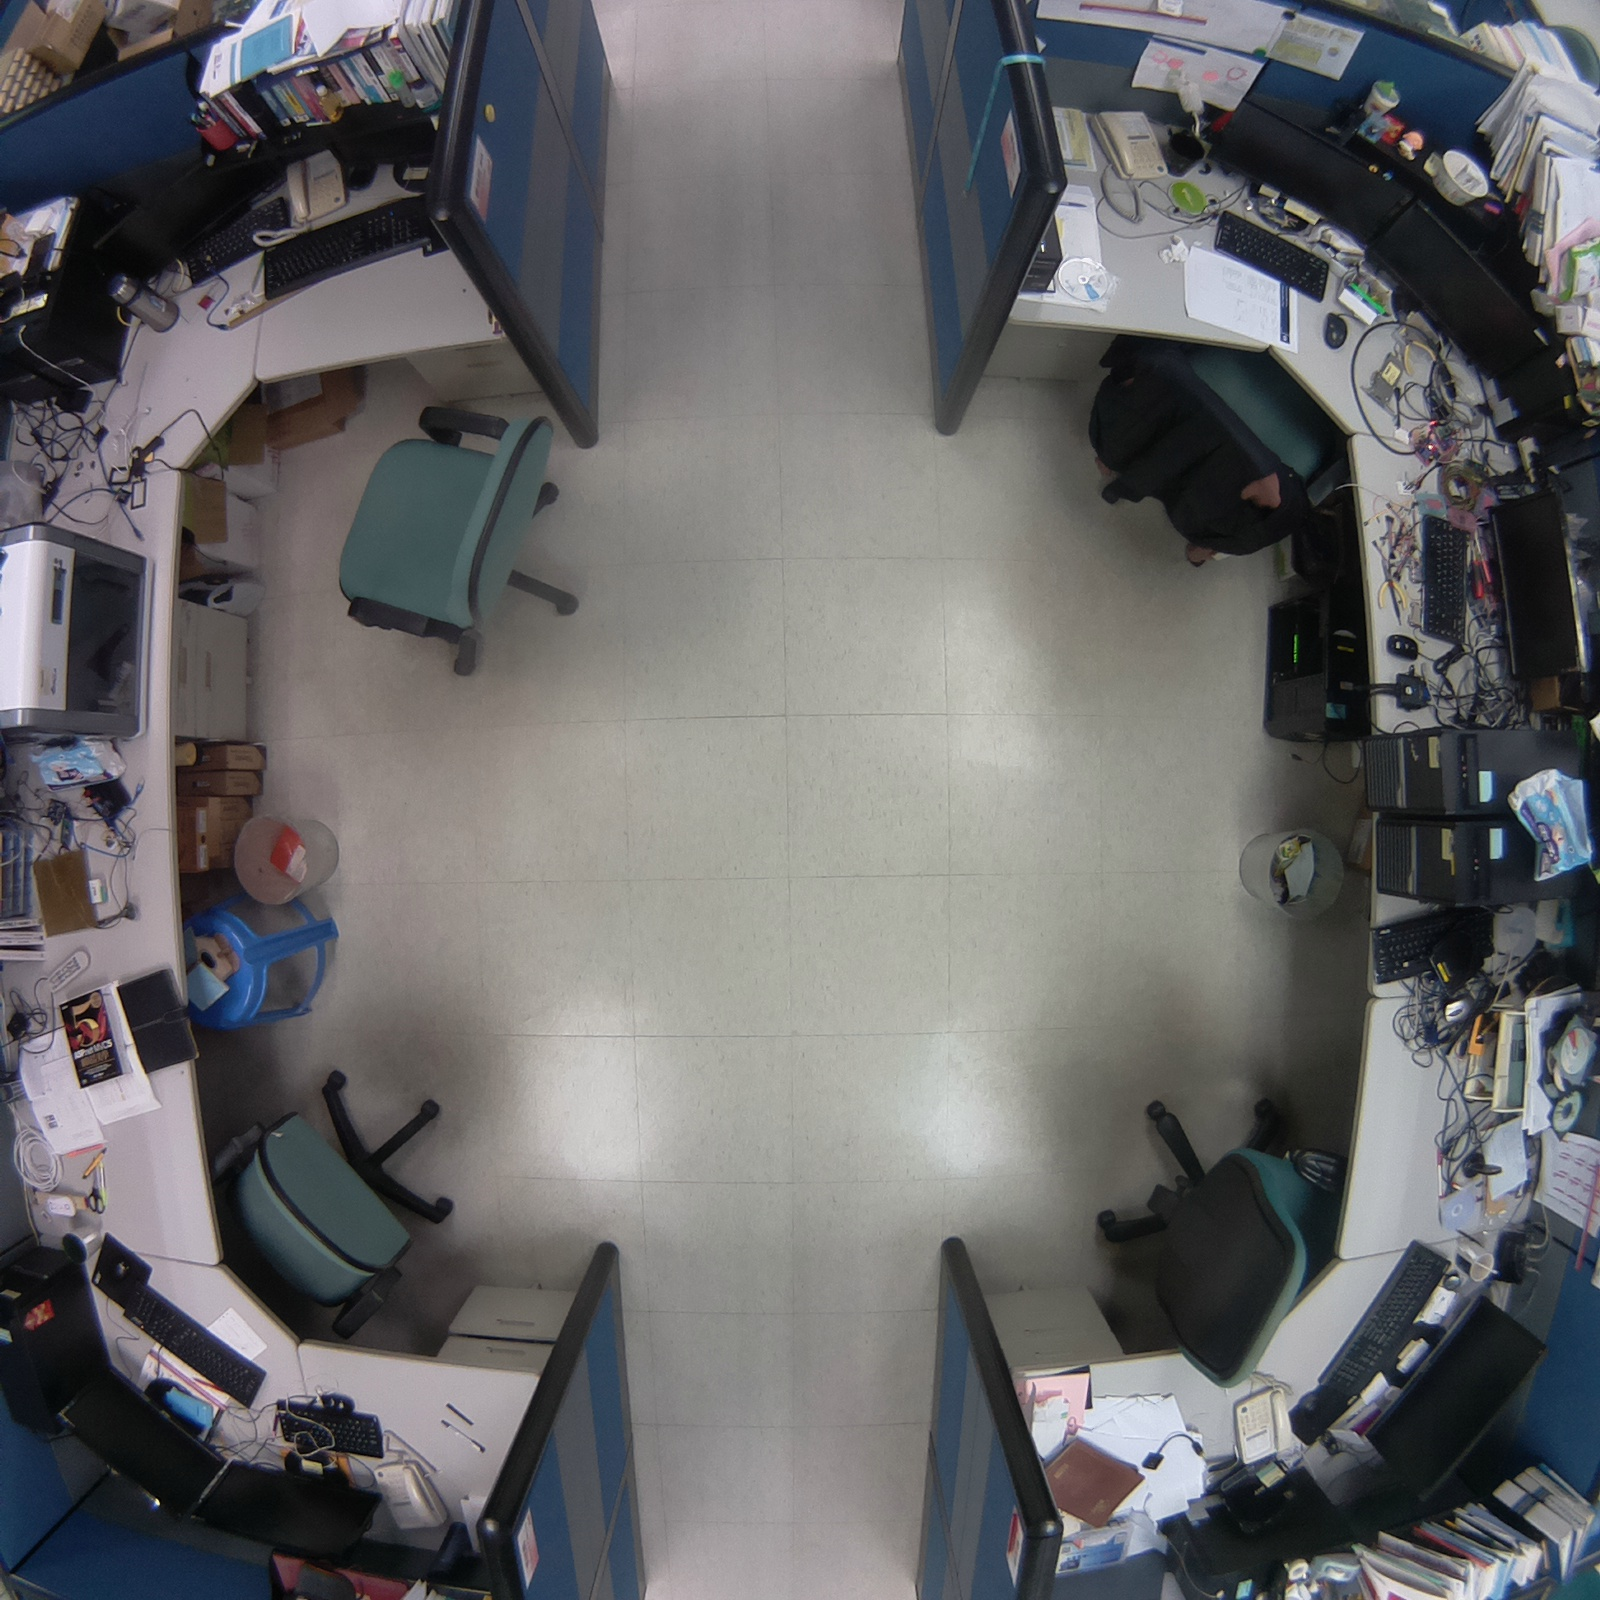chair: (1083, 1070, 1349, 1404), (1068, 309, 1374, 589), (188, 1062, 475, 1360), (319, 387, 596, 695)
